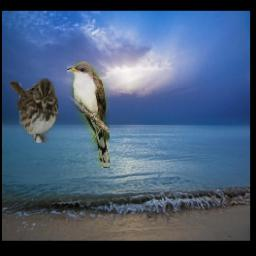Cuckoo: (67, 62, 110, 169)
Sparrow: (10, 78, 59, 143)
